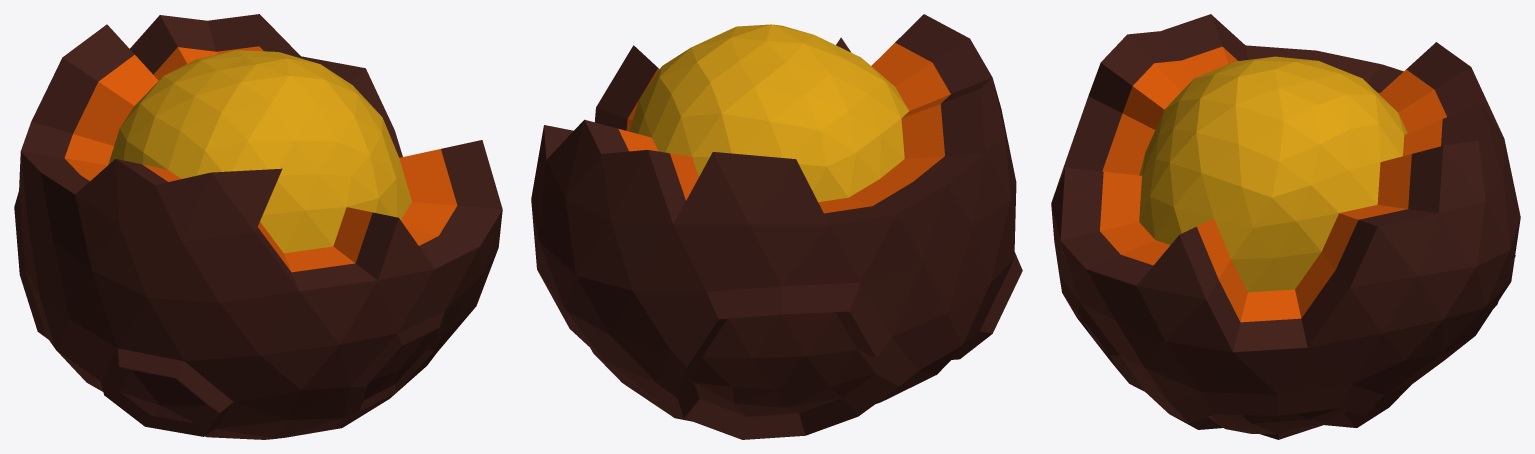
Rendered from planet05.fbx.
3 renders of one model, left to right at view 1: azimuth 30°, elevation 25°; view 2: azimuth 150°, elevation 25°; view 3: azimuth 270°, elevation 25°, orthographic. The views are drawn at different scales.
Parts seen in each view (by area): view 1: Icosphere; view 2: Icosphere; view 3: Icosphere.
Part boxes in pixels (bbox=[...]): Icosphere: bbox=[14, 14, 502, 439]; Icosphere: bbox=[531, 14, 1022, 439]; Icosphere: bbox=[1051, 14, 1520, 439].
Size of the model in its own units: 9.89 by 10.26 by 8.65.
